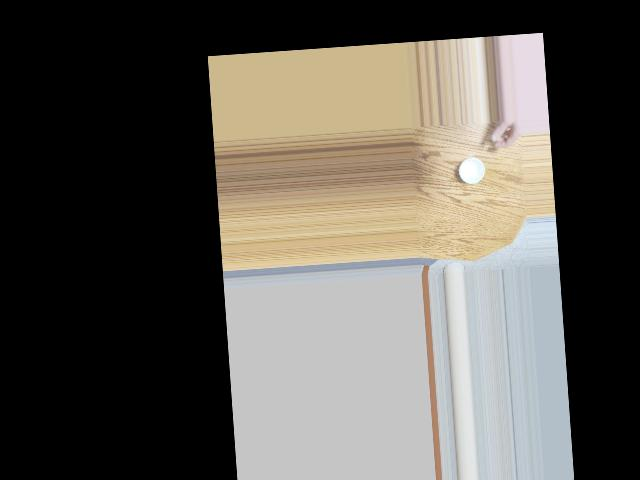cotage: (458, 151, 489, 186)
